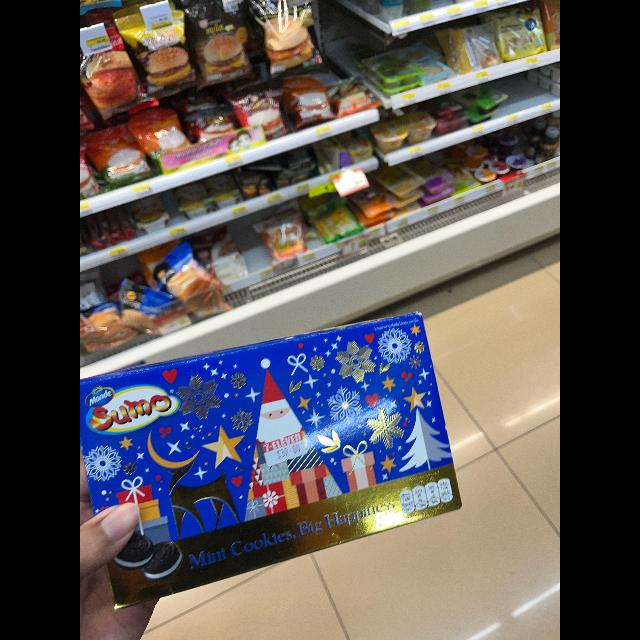cardboard_box: (80, 298, 473, 610)
